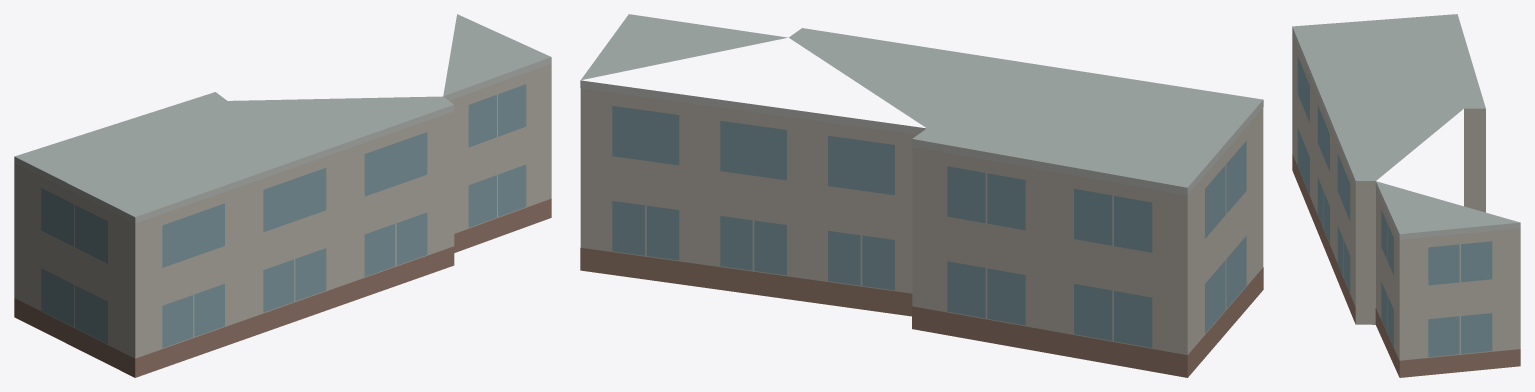
Rendered from survey-upis-32967843.glb.
3 renders of one model, left to right at view 1: azimuth 30°, elevation 25°; view 2: azimuth 150°, elevation 25°; view 3: azimuth 270°, elevation 25°, orthographic. The views are drawn at different scales.
Visible parts, largest first — view 1: survey-upis-32967843.tmp; view 2: survey-upis-32967843.tmp; view 3: survey-upis-32967843.tmp.
Boxes of the visible parts, x1,y1,x2,y2 form: survey-upis-32967843.tmp: (14, 14, 551, 377); survey-upis-32967843.tmp: (580, 14, 1263, 377); survey-upis-32967843.tmp: (1292, 14, 1520, 377).
Size of the model in its own units: 20.06 by 6.1 by 8.8.
